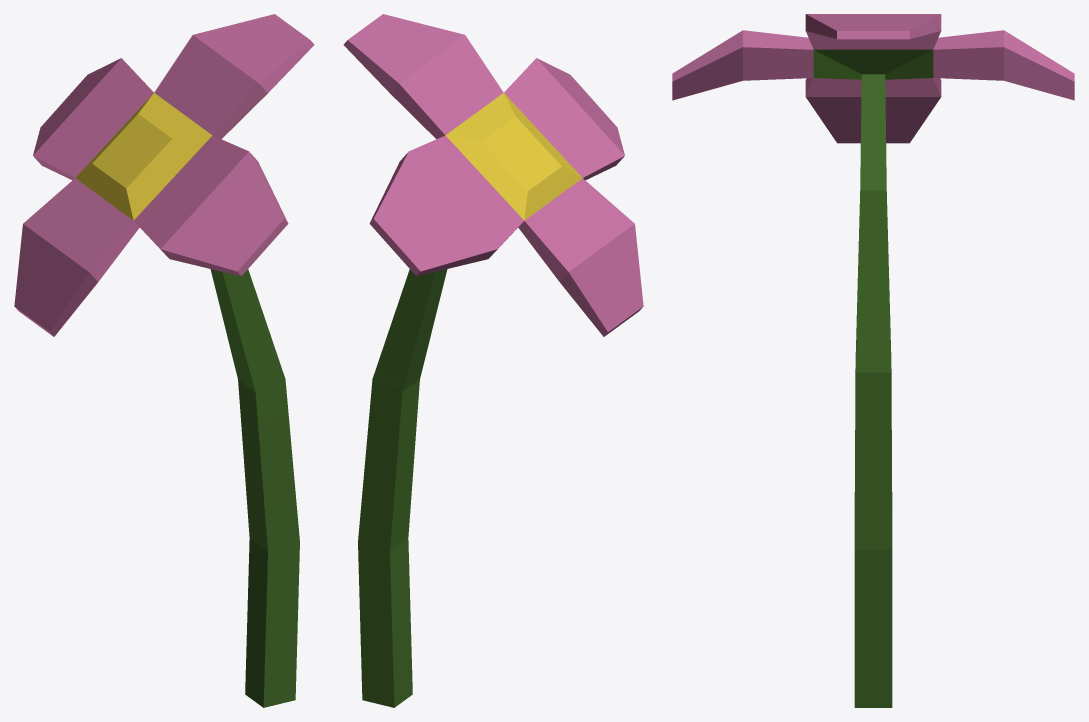
The model's file is Flower.fbx.
3 views of the same model, side by side, from view 1: azimuth 30°, elevation 25°; view 2: azimuth 150°, elevation 25°; view 3: azimuth 270°, elevation 25° (orthographic). The views are drawn at different scales.
Visible parts, largest first — view 1: Flower; view 2: Flower; view 3: Flower.
Boxes of the visible parts, x1=… form: Flower: x1=14, y1=14, x2=314, y2=707; Flower: x1=343, y1=14, x2=643, y2=707; Flower: x1=672, y1=14, x2=1074, y2=707.
Bounding box in the file's own units: 0.8834 × 2.12 × 1.14.
